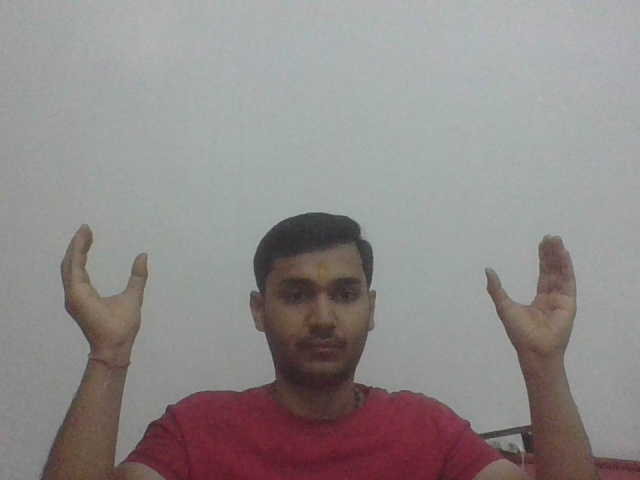U: (56, 220, 154, 352), (484, 230, 580, 354)
